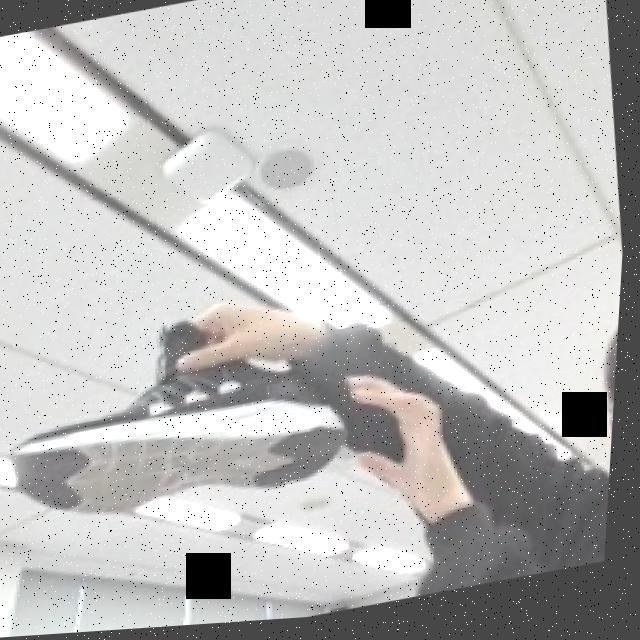shoes: (1, 294, 359, 535)
